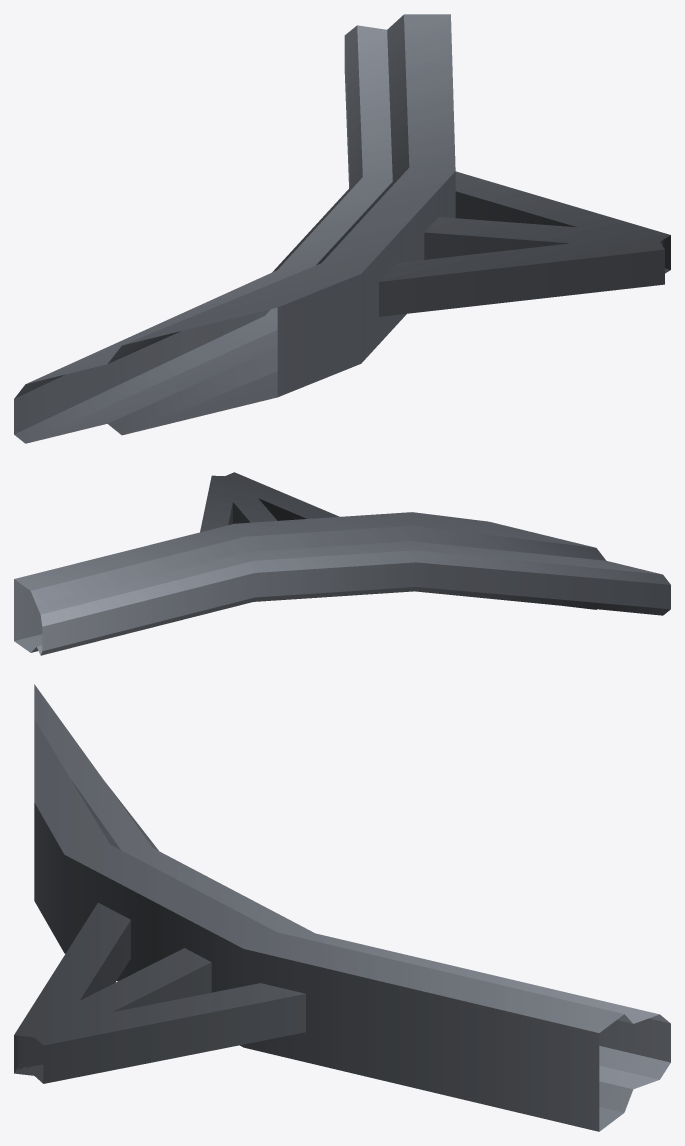
Rendered from Pillar Decor 01.FBX.
The picture shows the model from 3 angles, top to bottom: view 1: azimuth 30°, elevation 25°; view 2: azimuth 150°, elevation 25°; view 3: azimuth 270°, elevation 25°; orthographic projection. The views are drawn at different scales.
Visible parts, largest first — view 1: Pillar Decor 01; view 2: Pillar Decor 01; view 3: Pillar Decor 01.
Boxes of the visible parts, x1,y1,x2,y2 form: Pillar Decor 01: (14, 14, 670, 443); Pillar Decor 01: (14, 472, 670, 655); Pillar Decor 01: (14, 684, 670, 1131).
Bounding box in the file's own units: 251 × 31.1 × 188.
